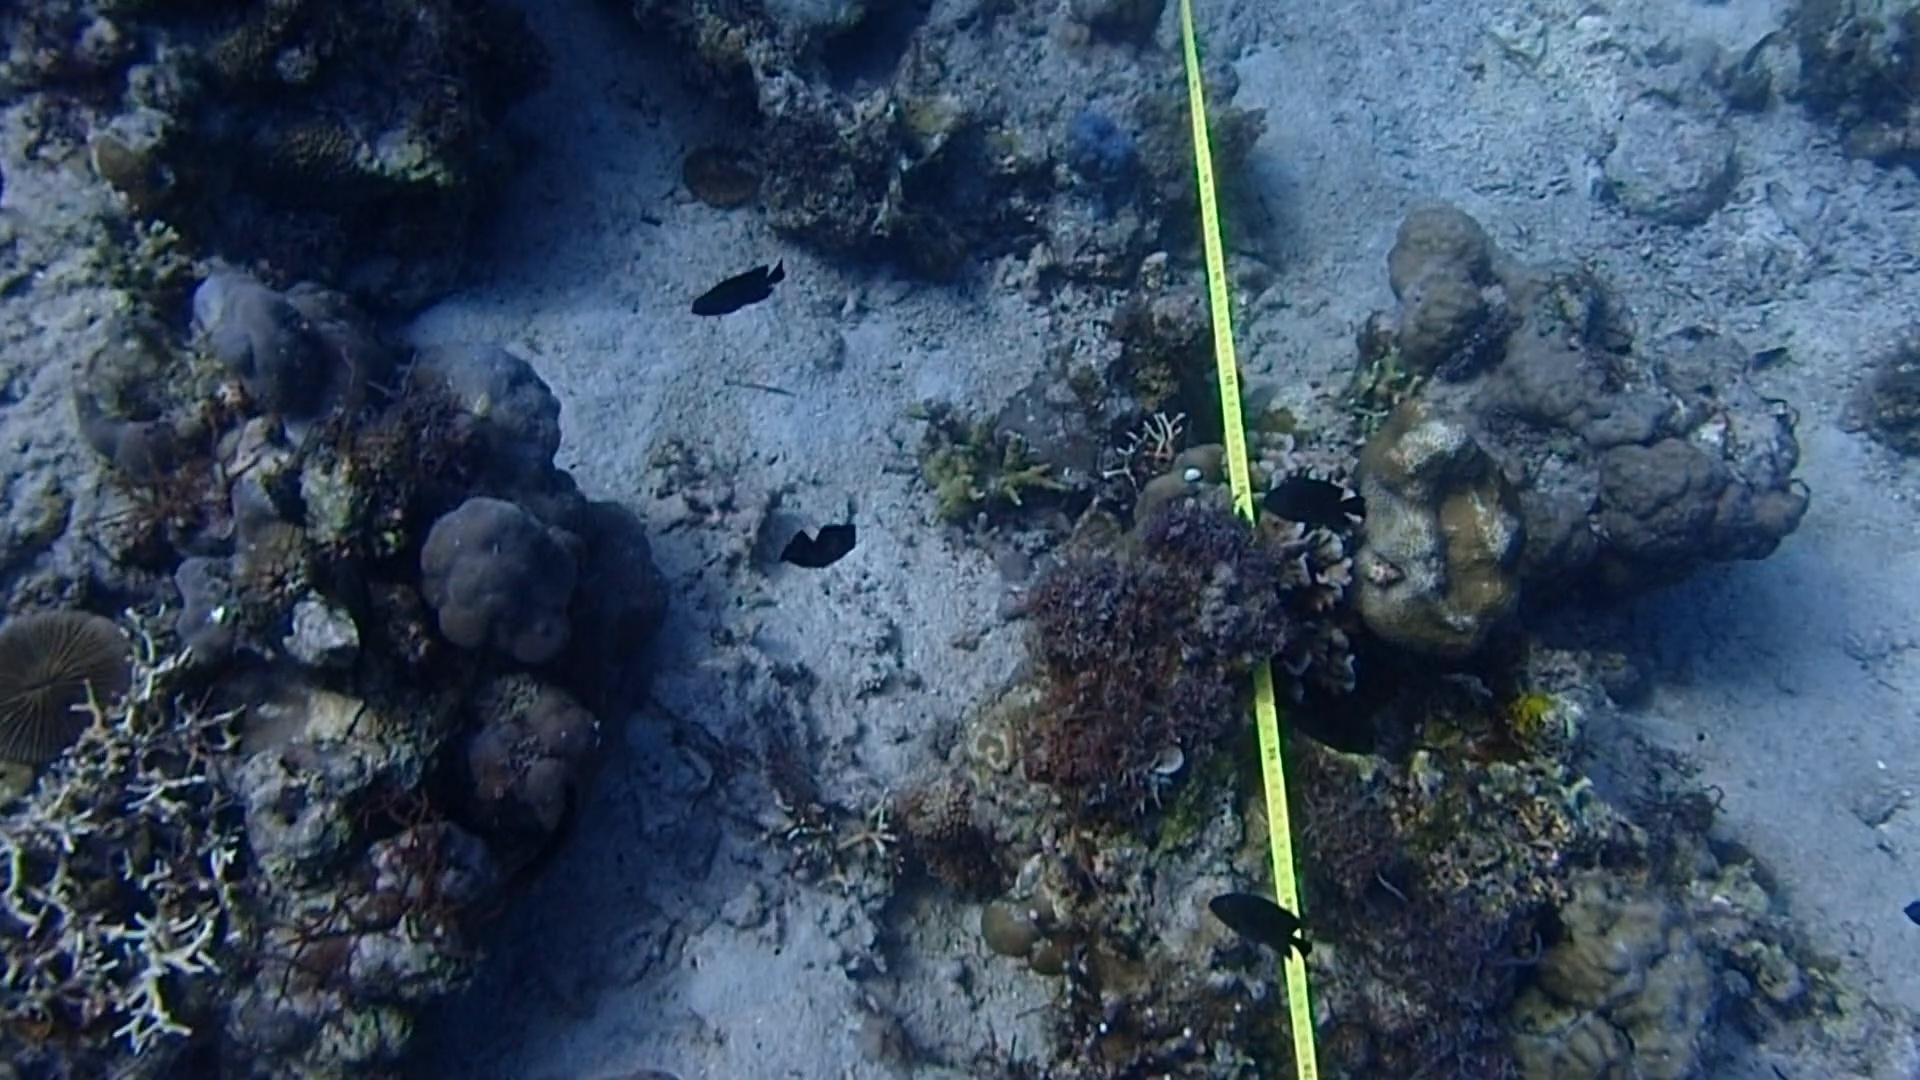Dark Fish: (485, 758, 583, 907), (1178, 876, 1319, 965), (320, 549, 407, 682), (1261, 666, 1377, 761), (1238, 471, 1381, 541), (675, 258, 806, 332), (775, 518, 878, 580)
Light Fish: (1727, 21, 1800, 82)
